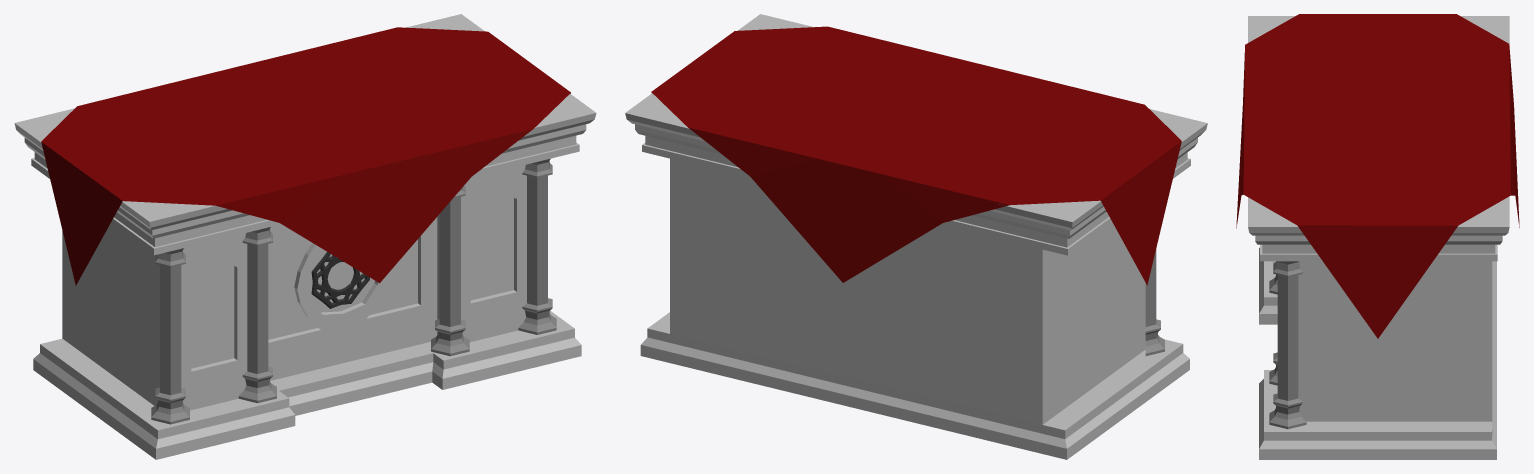
Rendered from MesaEscenario3.fbx.
The picture shows the model from 3 angles, left to right: view 1: azimuth 30°, elevation 25°; view 2: azimuth 150°, elevation 25°; view 3: azimuth 270°, elevation 25°; orthographic projection. The views are drawn at different scales.
Parts seen in each view (by area): view 1: Box001; view 2: Box001; view 3: Box001.
Part boxes in pixels (bbox=[...]): Box001: bbox=[14, 14, 596, 459]; Box001: bbox=[625, 14, 1207, 459]; Box001: bbox=[1236, 14, 1519, 459].
Size of the model in its own units: 217 by 111 by 119.
